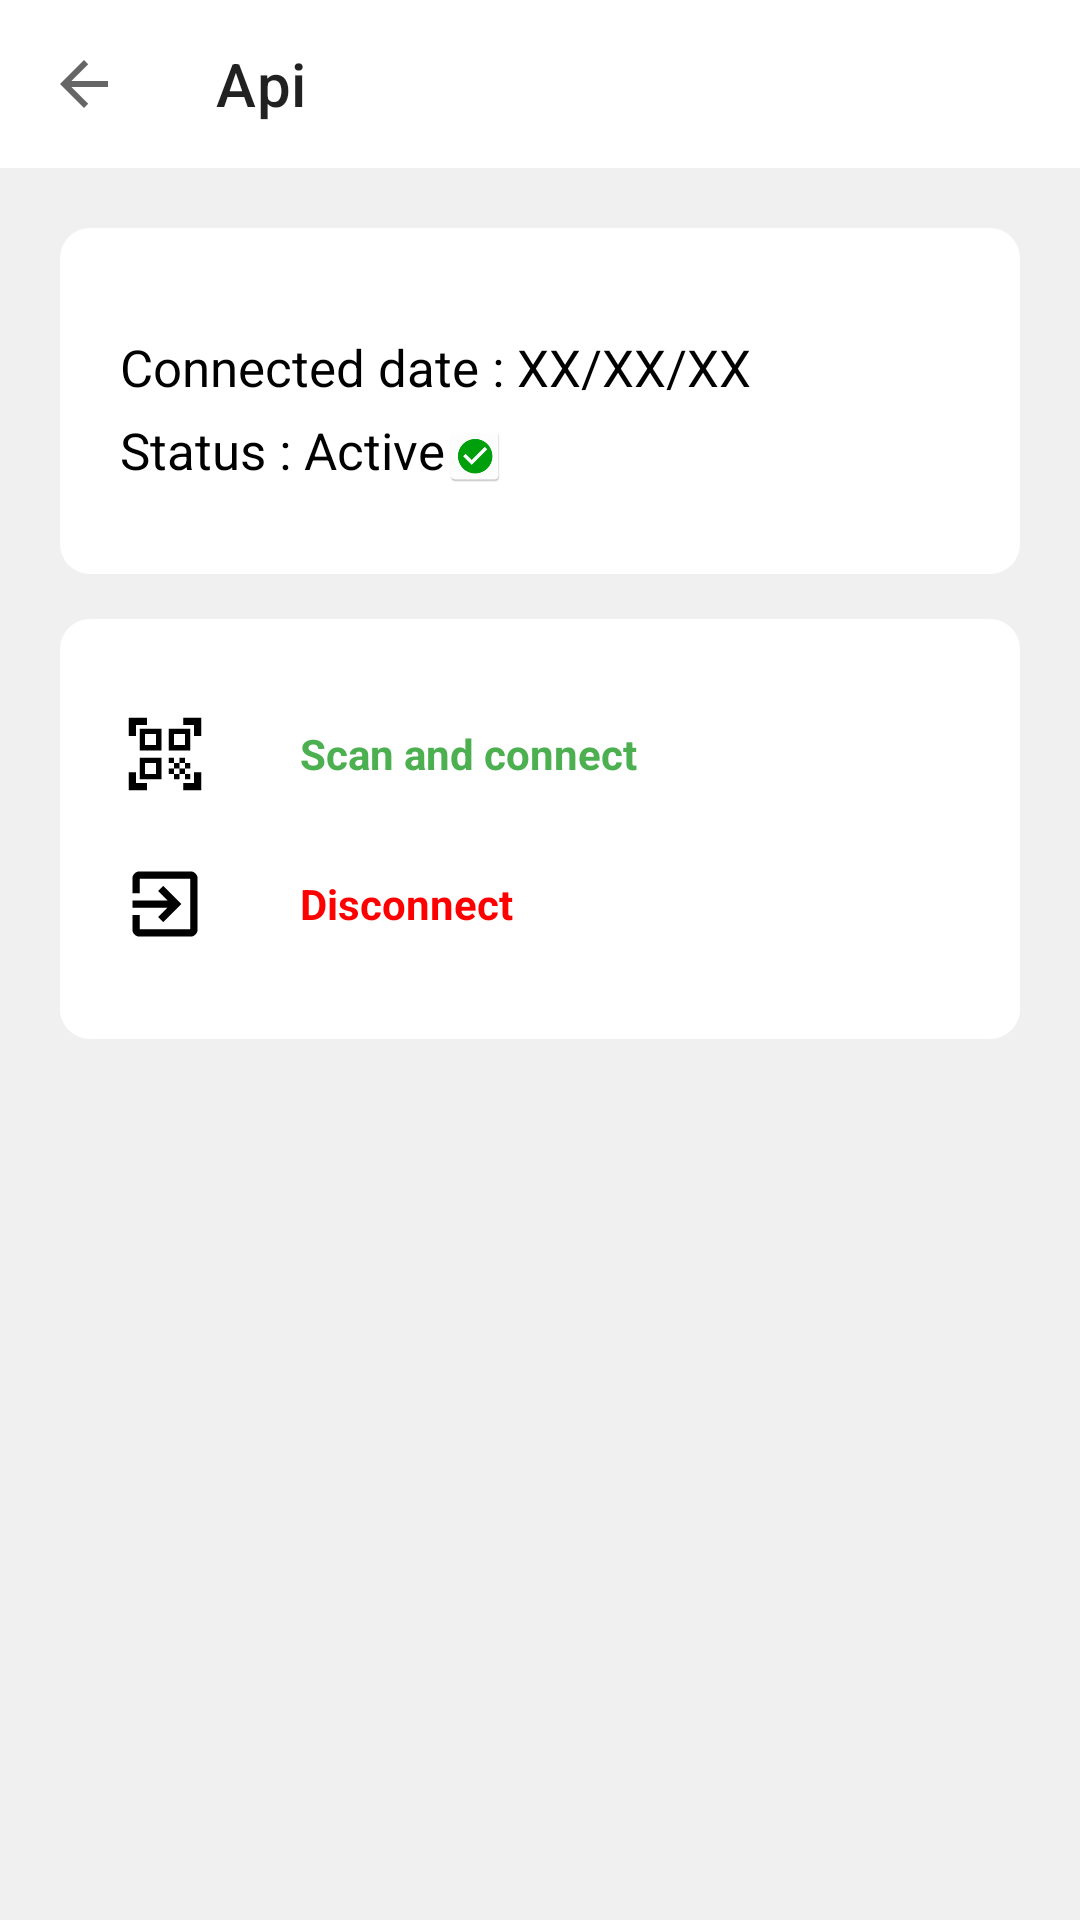

Icon click points for this 1080×1920 phone screenshot, format (x,y):
circle: (475,458)
log out: (165,904)
